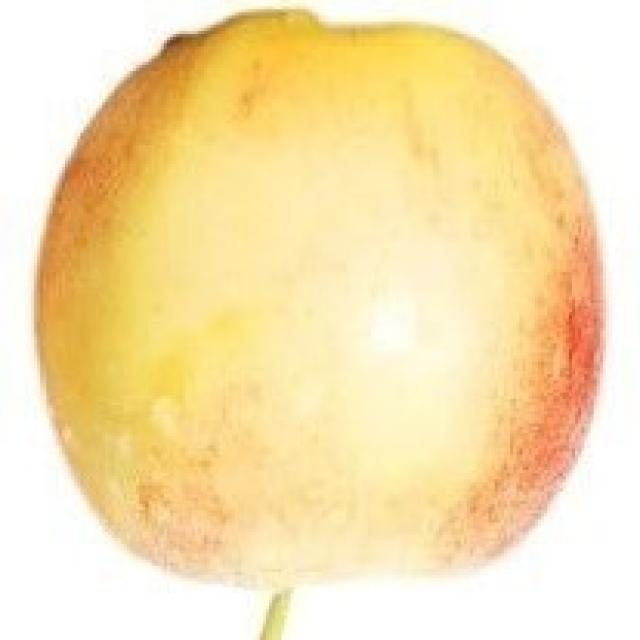75-_ripeness: (30, 11, 603, 580)
